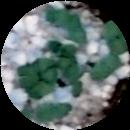Basil: (16, 65, 45, 98), (90, 52, 123, 80), (105, 22, 129, 52), (36, 101, 69, 120), (46, 11, 76, 31), (65, 18, 87, 43), (62, 56, 83, 81), (40, 61, 60, 87)
